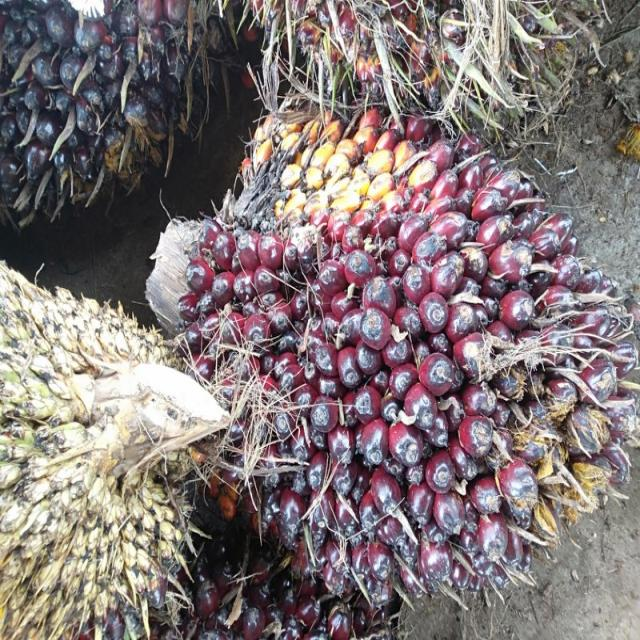fraksi 1: (183, 107, 629, 622)
